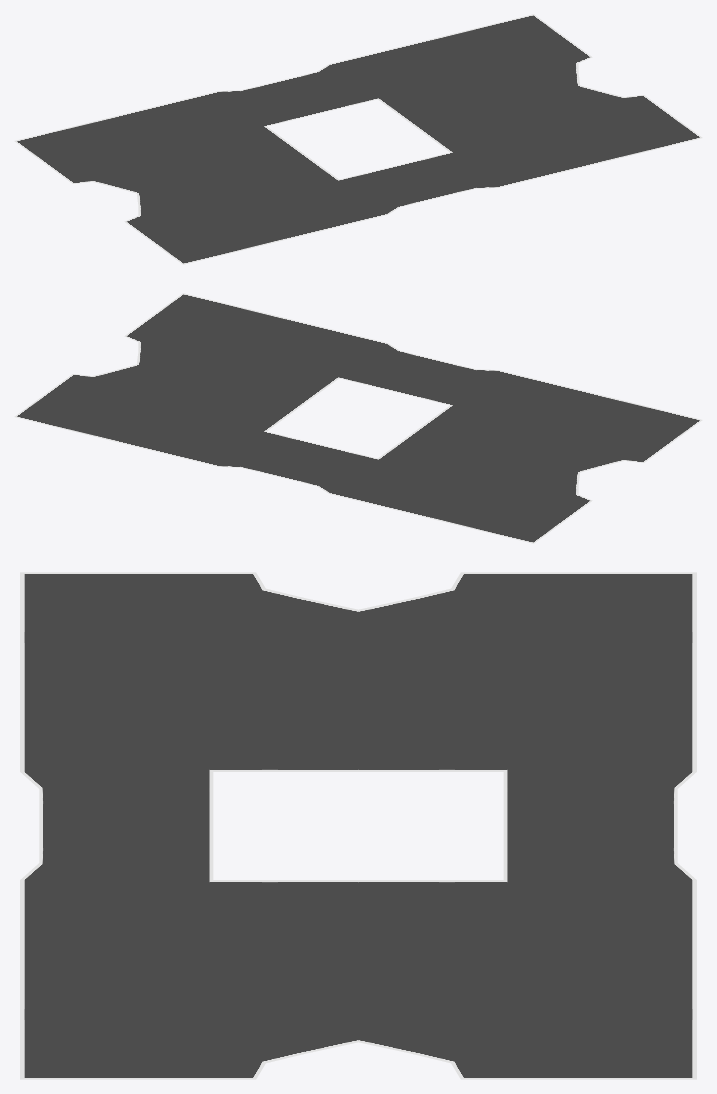
Rendered from ramkaIce.fbx.
3 renders of one model, top to bottom at view 1: azimuth 30°, elevation 25°; view 2: azimuth 150°, elevation 25°; view 3: azimuth 270°, elevation 25°, orthographic. The views are drawn at different scales.
Parts seen in each view (by area): view 1: FullQuarterIce; view 2: FullQuarterIce; view 3: FullQuarterIce.
Part boxes in pixels (x1,y1,x2,y2): FullQuarterIce: (14,14,702,264); FullQuarterIce: (14,293,702,543); FullQuarterIce: (20,572,696,1079).
Bounding box in the file's own units: 2450 × 0 × 1382.
